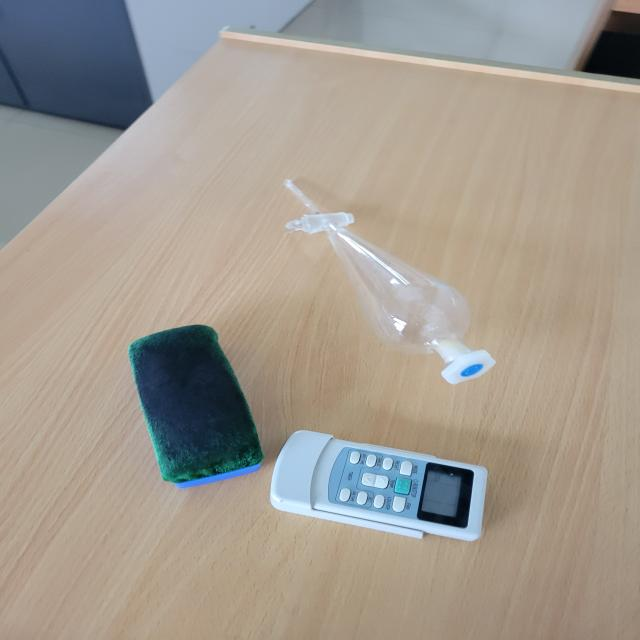Separating_Funnel: (250, 126, 541, 409)
